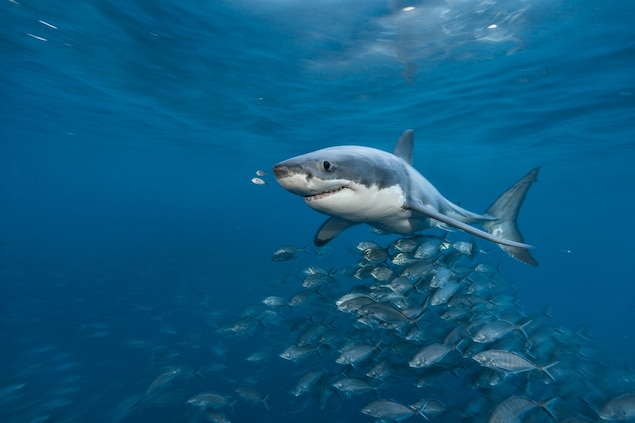shark: (262, 124, 558, 275)
